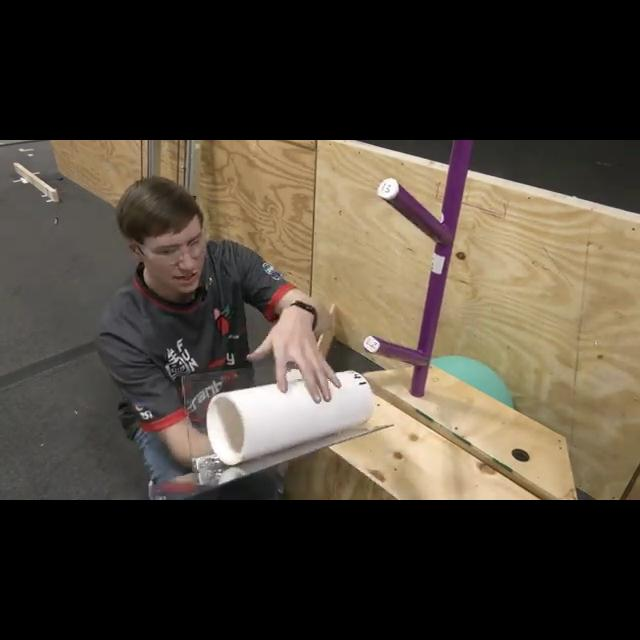CORAL: (204, 367, 374, 465)
